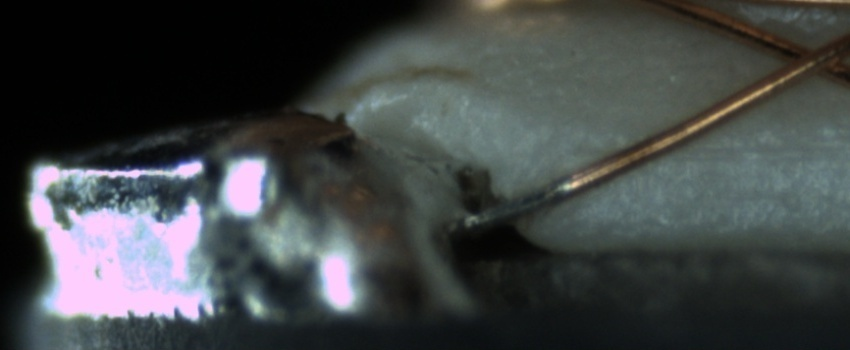CL: (760, 28, 846, 89)
DL: (632, 121, 850, 181)
TS: (461, 178, 573, 230)
